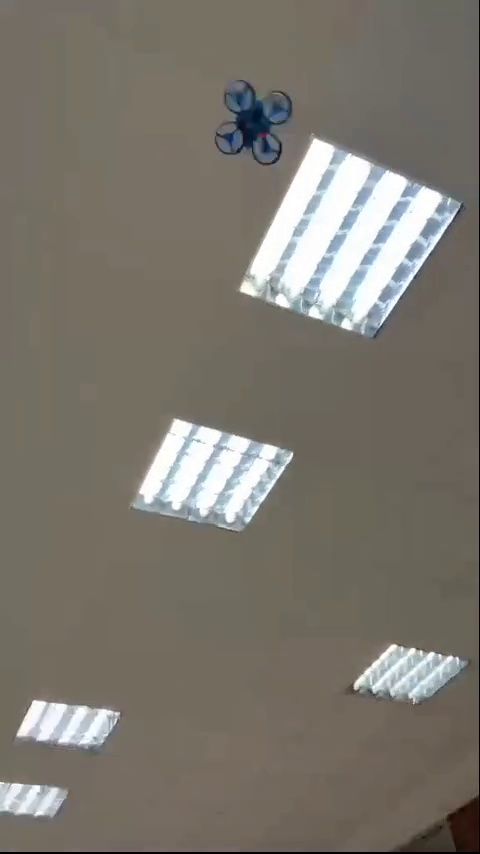drone: (213, 79, 291, 165)
